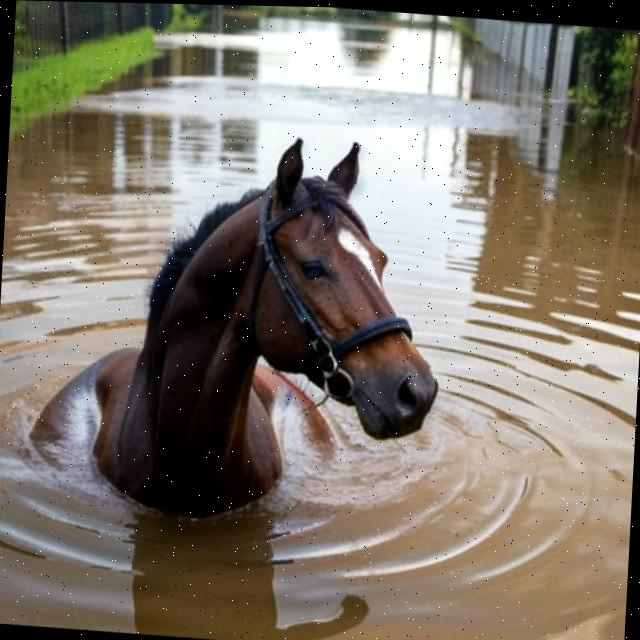horse: (31, 119, 477, 546)
